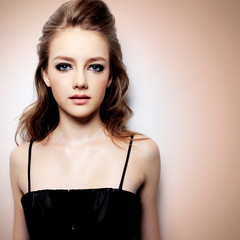teen: (29, 4, 122, 128)
